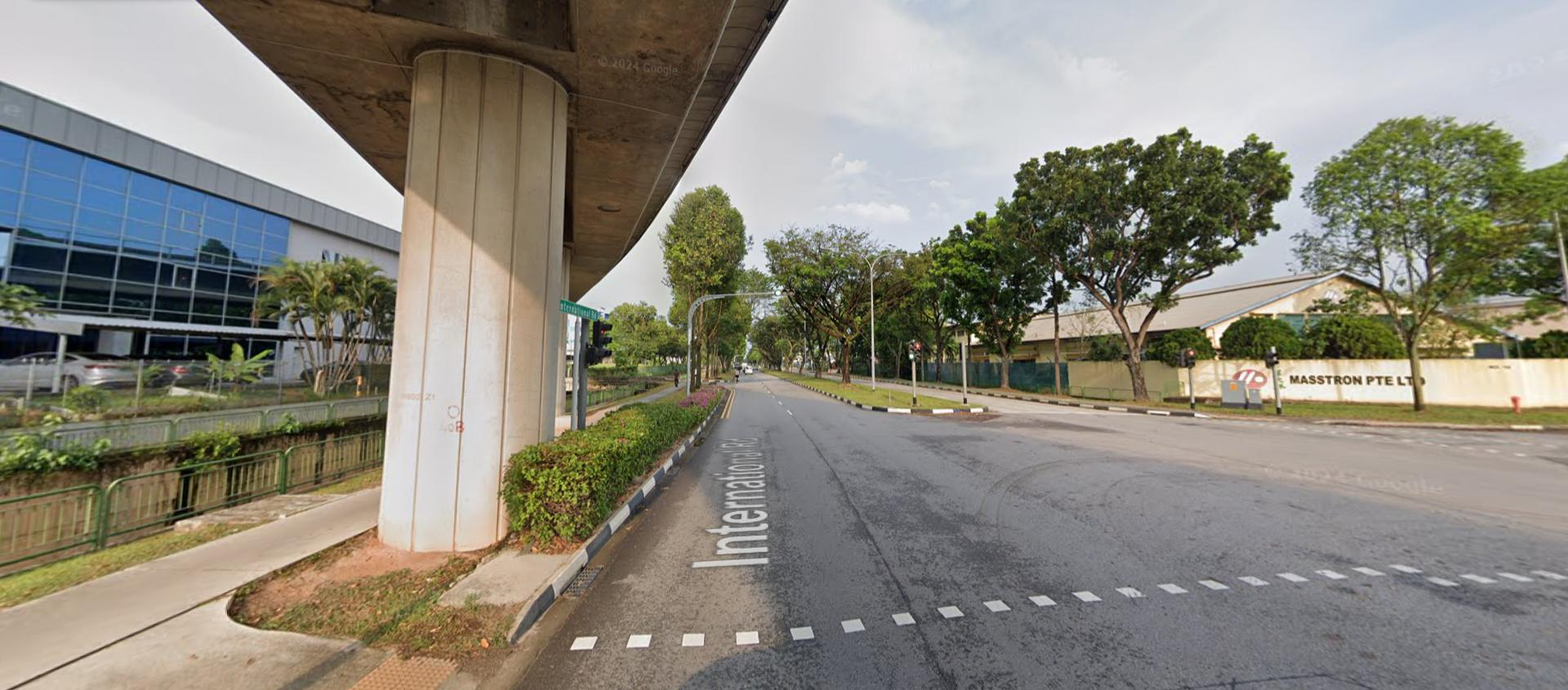defect: (563, 565, 605, 598)
